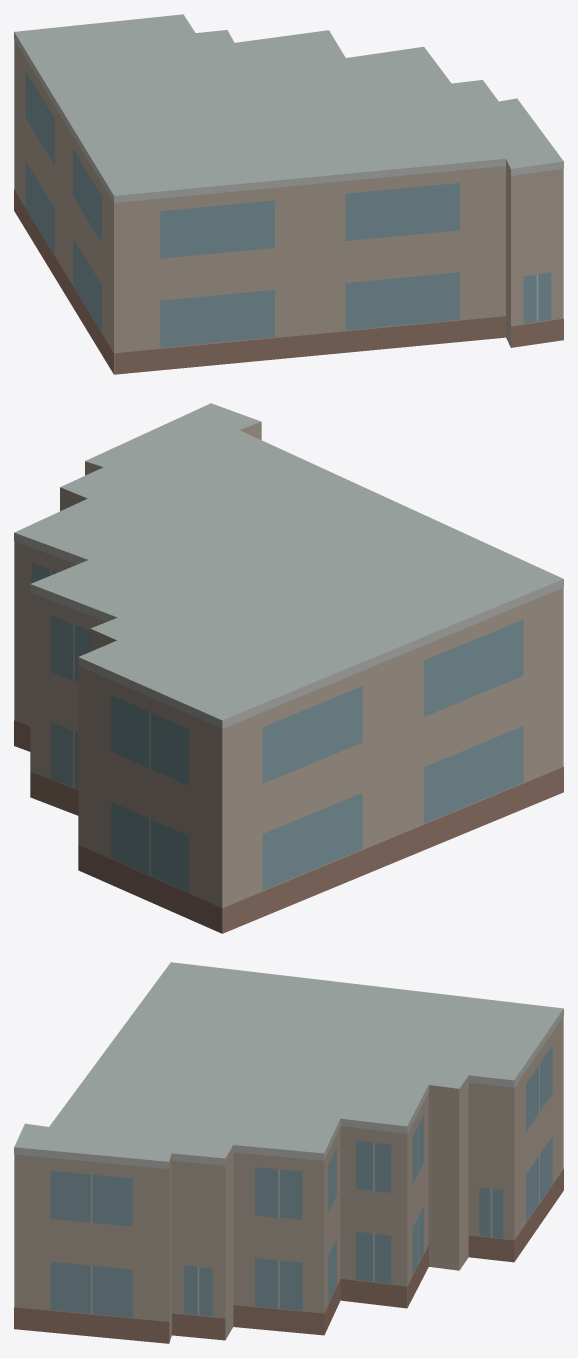
Rendered from survey-upis-32640482.glb.
3 renders of one model, top to bottom at view 1: azimuth 30°, elevation 25°; view 2: azimuth 150°, elevation 25°; view 3: azimuth 270°, elevation 25°, orthographic. The views are drawn at different scales.
Visible parts, largest first — view 1: survey-upis-32640482.tmp; view 2: survey-upis-32640482.tmp; view 3: survey-upis-32640482.tmp.
Boxes of the visible parts, x1,y1,x2,y2 form: survey-upis-32640482.tmp: (14, 14, 563, 374); survey-upis-32640482.tmp: (14, 403, 563, 933); survey-upis-32640482.tmp: (14, 962, 563, 1343).
Size of the model in its own units: 14.37 by 6.1 by 16.72.
